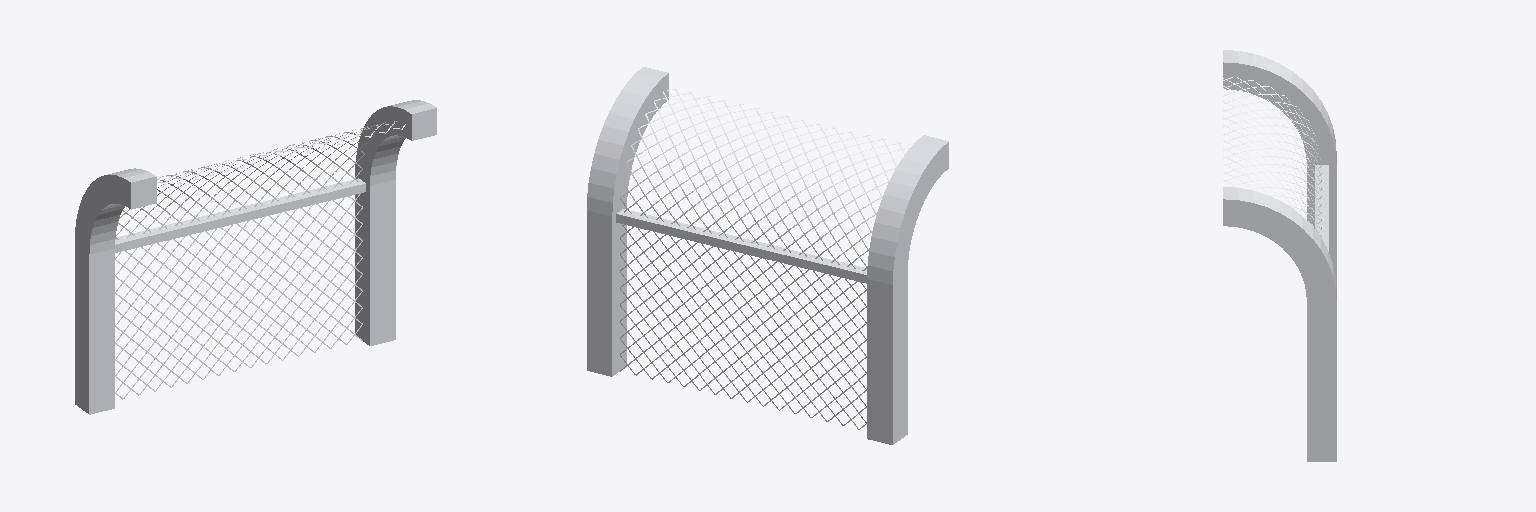
3 views of the same model, side by side, from view 1: azimuth 30°, elevation 25°; view 2: azimuth 150°, elevation 25°; view 3: azimuth 270°, elevation 25° (orthographic).
Parts seen in each view (by area): view 1: fenceCurved; view 2: fenceCurved; view 3: fenceCurved.
Part boxes in pixels (bbox=[...]): fenceCurved: bbox=[75, 100, 436, 414]; fenceCurved: bbox=[587, 67, 948, 444]; fenceCurved: bbox=[1223, 50, 1336, 461].
Bounding box in the file's own units: 1 × 0.82 × 0.32.
2 materials, 1 textured.